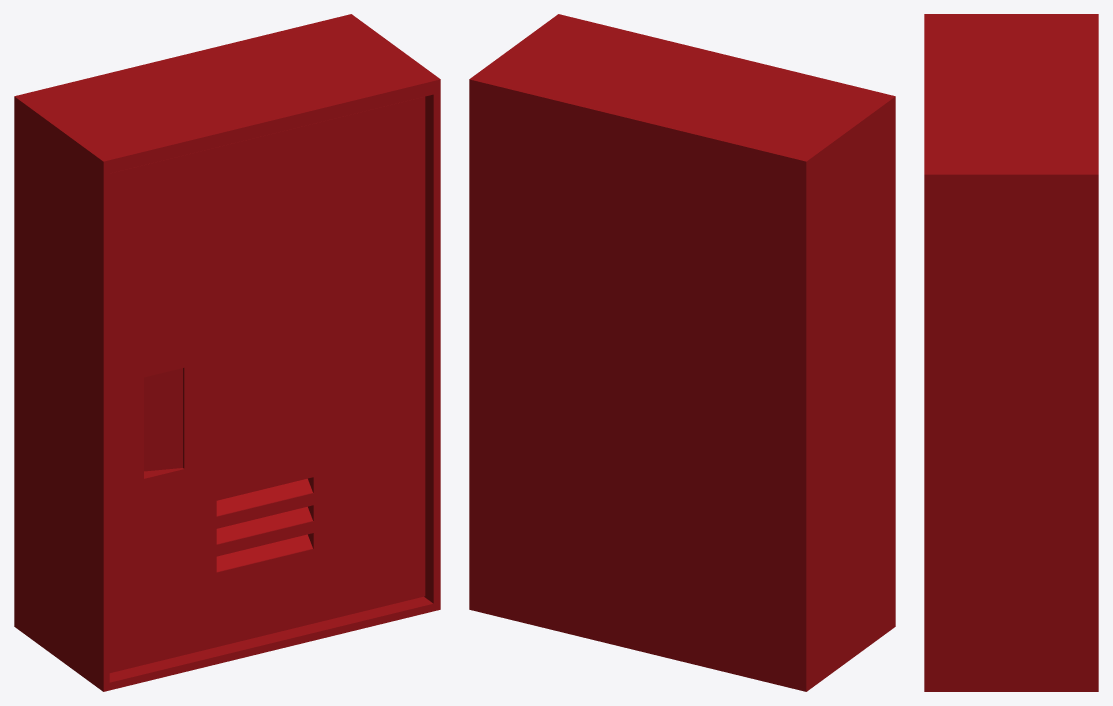
File: Fire.fbx_FireHydrantBox.fbx
3 views of the same model, side by side, from view 1: azimuth 30°, elevation 25°; view 2: azimuth 150°, elevation 25°; view 3: azimuth 270°, elevation 25° (orthographic). The views are drawn at different scales.
Parts seen in each view (by area): view 1: FireHydrantBox; view 2: FireHydrantBox; view 3: FireHydrantBox.
Boxes of the visible parts, box(x1,y1,x2,y2) form: FireHydrantBox: box(14, 14, 440, 691); FireHydrantBox: box(469, 14, 895, 691); FireHydrantBox: box(924, 14, 1098, 691).
Bounding box in the file's own units: 63.57 × 95.52 × 29.15.
